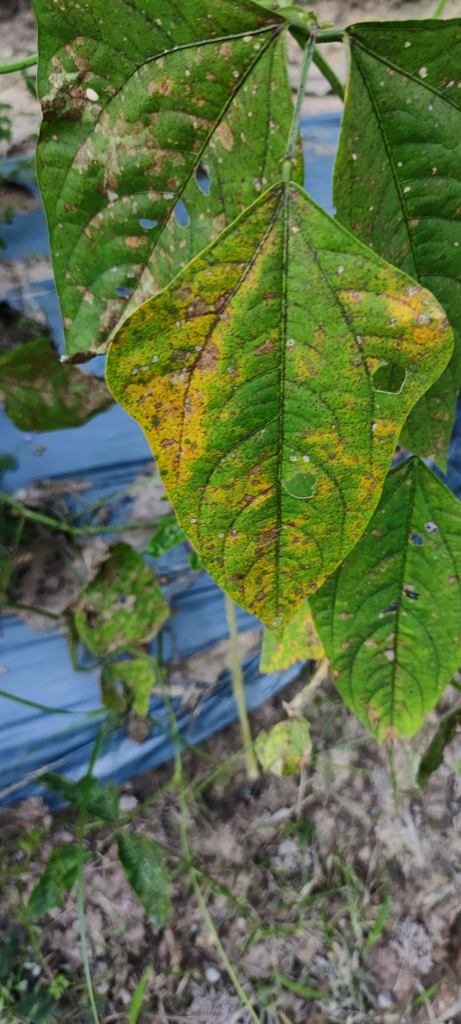Rust: (122, 184, 451, 628), (24, 8, 316, 363), (311, 478, 451, 748)
